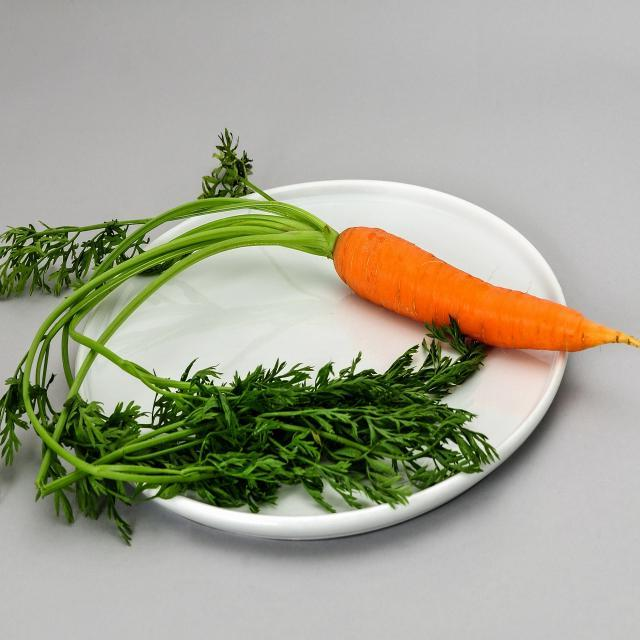carrot: (336, 225, 640, 358)
